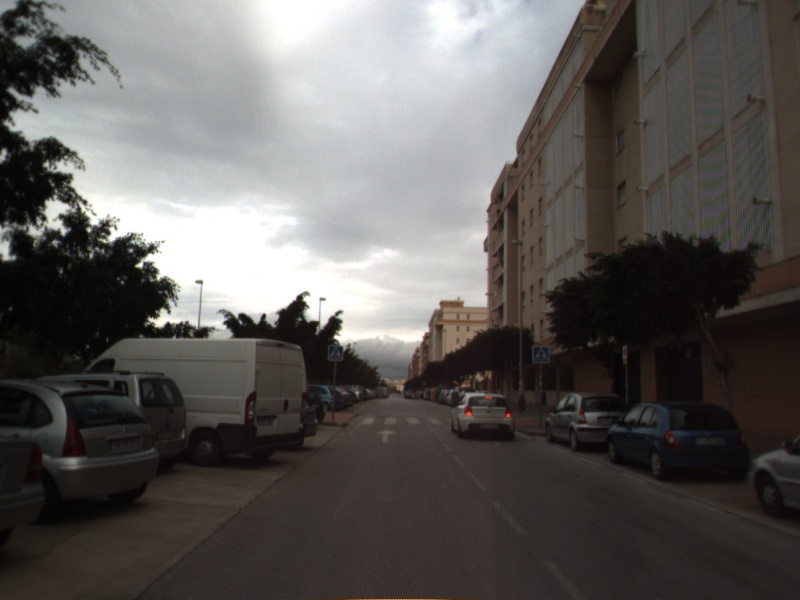STRAIGHT: (374, 427, 399, 445)
